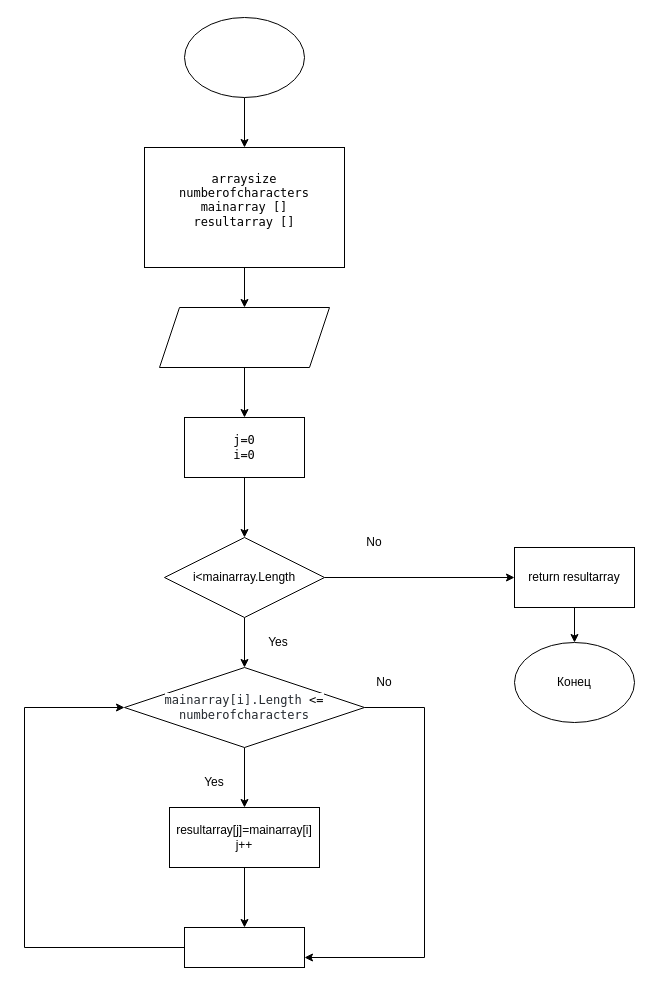
Image size: 652x985. Some labels were removed from this diagram. The centre of each missing label's shape, as x and y in pixels:
"arraysize numberofcharacters" goes at (244,337).
"i++" goes at (244,947).
"Начало" goes at (244,57).
